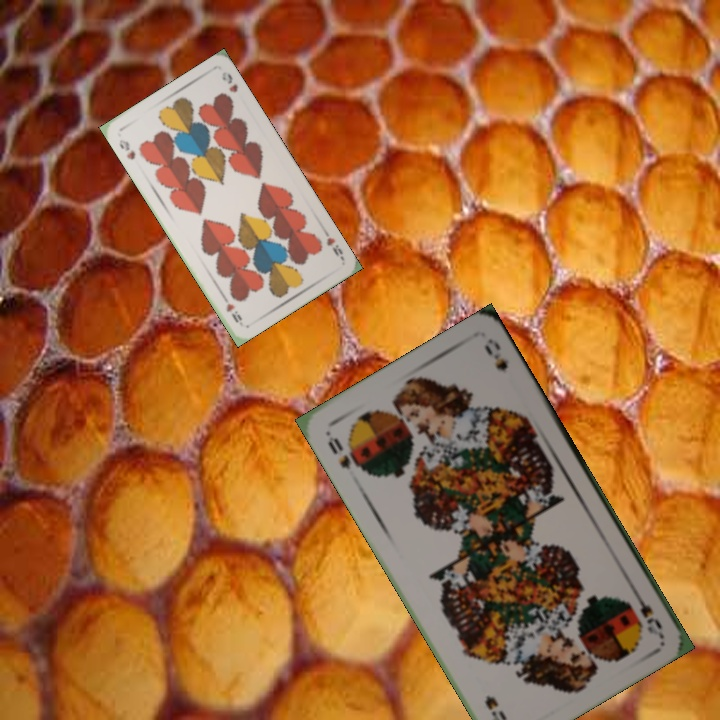H9: (319, 225, 346, 262), (115, 136, 138, 162)
SO: (628, 584, 665, 639), (322, 428, 362, 473)
